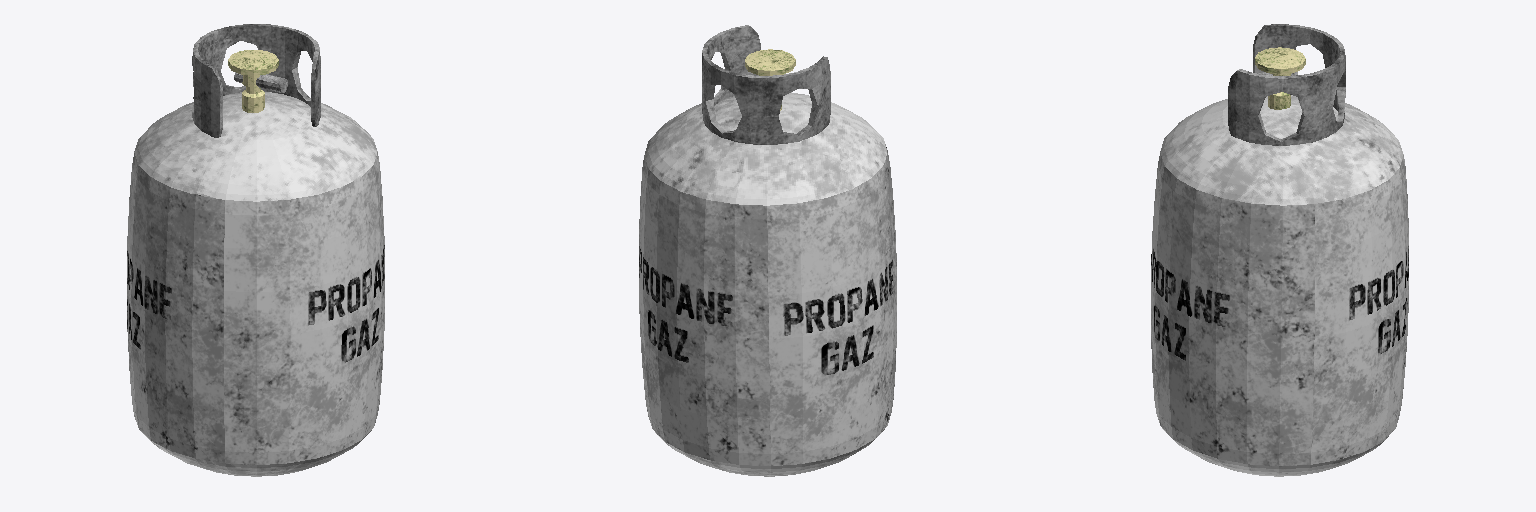
3 renders of one model, left to right at view 1: azimuth 30°, elevation 25°; view 2: azimuth 150°, elevation 25°; view 3: azimuth 270°, elevation 25°, orthographic.
Parts seen in each view (by area): view 1: Cylinder007; view 2: Cylinder007; view 3: Cylinder007.
Boxes of the visible parts, x1,y1,x2,y2 form: Cylinder007: [127, 24, 384, 476]; Cylinder007: [639, 25, 896, 476]; Cylinder007: [1151, 24, 1408, 476].
Bounding box in the file's own units: 56.45 × 99.24 × 56.44.
Materials: 1 (1 with a texture image).